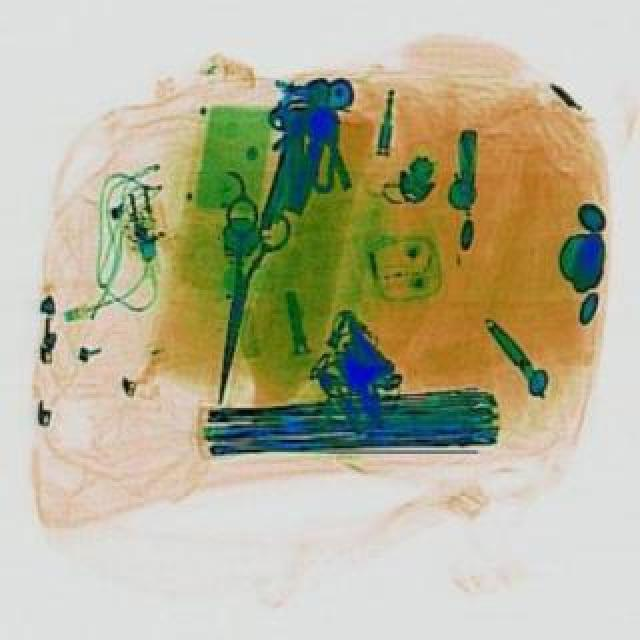pliers: (192, 202, 298, 414)
